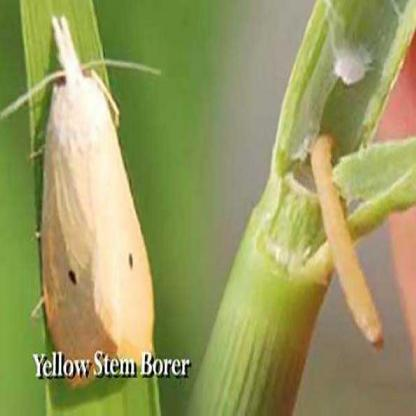stem-borer: (32, 10, 156, 346)
